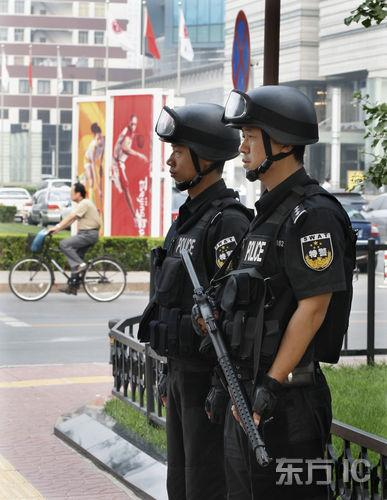bending: (56, 178, 115, 304)
up: (222, 74, 359, 500), (133, 96, 242, 500)
